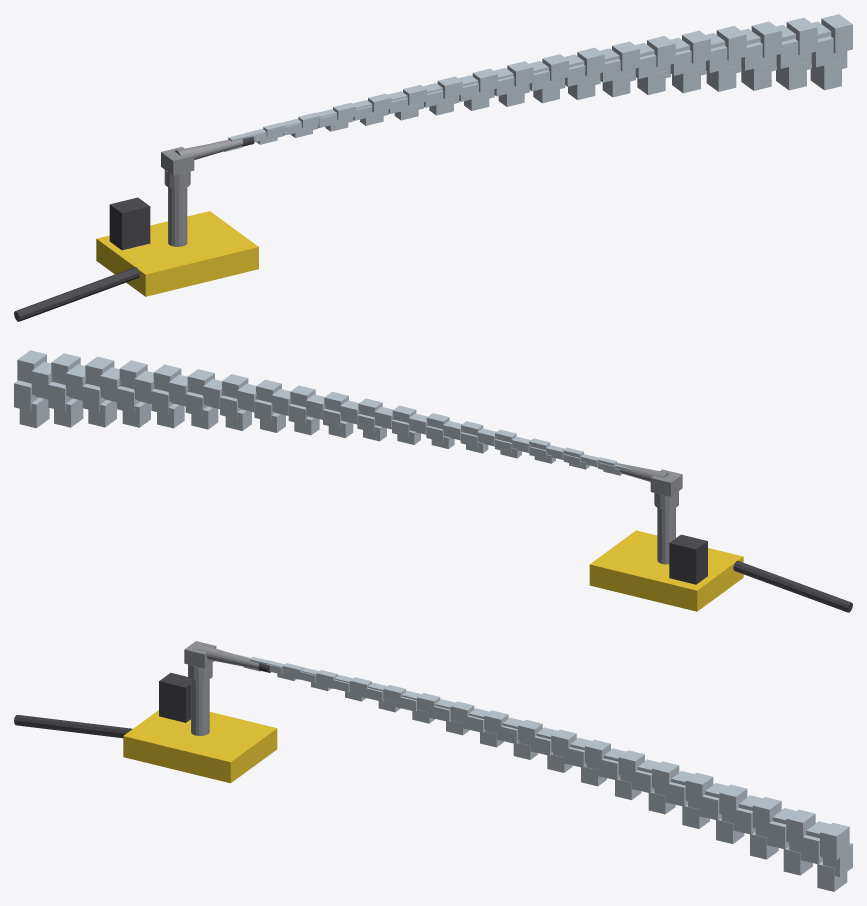
File: EQ_WaterCannon.glb
3 renders of one model, top to bottom at view 1: azimuth 30°, elevation 25°; view 2: azimuth 150°, elevation 25°; view 3: azimuth 330°, elevation 25°, orthographic. The views are drawn at different scales.
Visible parts, largest first — view 1: WC_Jet_Flow, WC_Skid, WC_Pan, WC_Tilt; view 2: WC_Jet_Flow, WC_Skid, WC_Pan; view 3: WC_Jet_Flow, WC_Skid, WC_Pan, WC_Tilt.
Part boxes in pixels (x1=…): WC_Jet_Flow: x1=211, y1=14, x2=852, y2=151; WC_Skid: x1=14, y1=187, x2=258, y2=321; WC_Pan: x1=161, y1=147, x2=194, y2=188; WC_Tilt: x1=175, y1=136, x2=254, y2=159; WC_Jet_Flow: x1=14, y1=350, x2=631, y2=475; WC_Skid: x1=589, y1=507, x2=852, y2=612; WC_Pan: x1=650, y1=469, x2=682, y2=509; WC_Jet_Flow: x1=236, y1=654, x2=852, y2=891; WC_Skid: x1=14, y1=673, x2=277, y2=783; WC_Pan: x1=184, y1=641, x2=216, y2=680; WC_Tilt: x1=197, y1=644, x2=270, y2=672.
Bounding box in the file's own units: 12.01 × 1.59 × 1.2.
